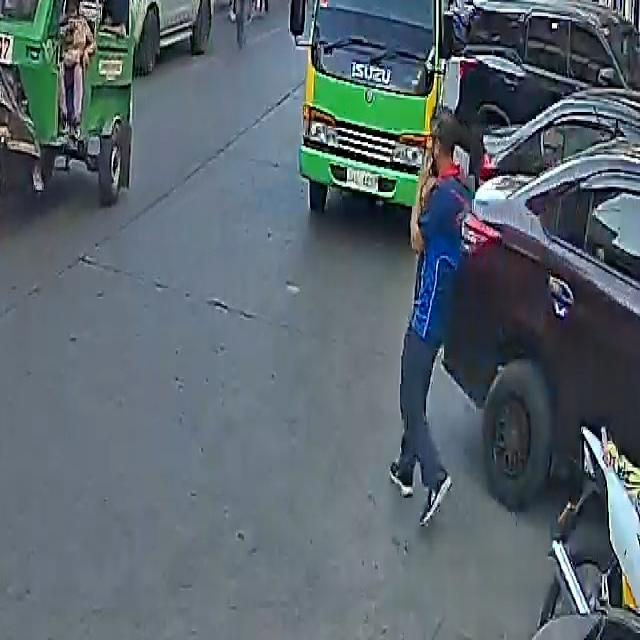car: (434, 138, 640, 522), (434, 0, 640, 190), (106, 0, 218, 71)
